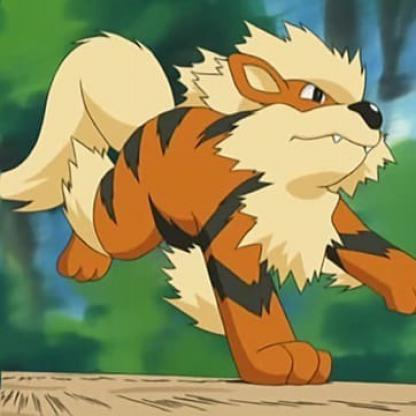Arcanine: (38, 15, 416, 390)
